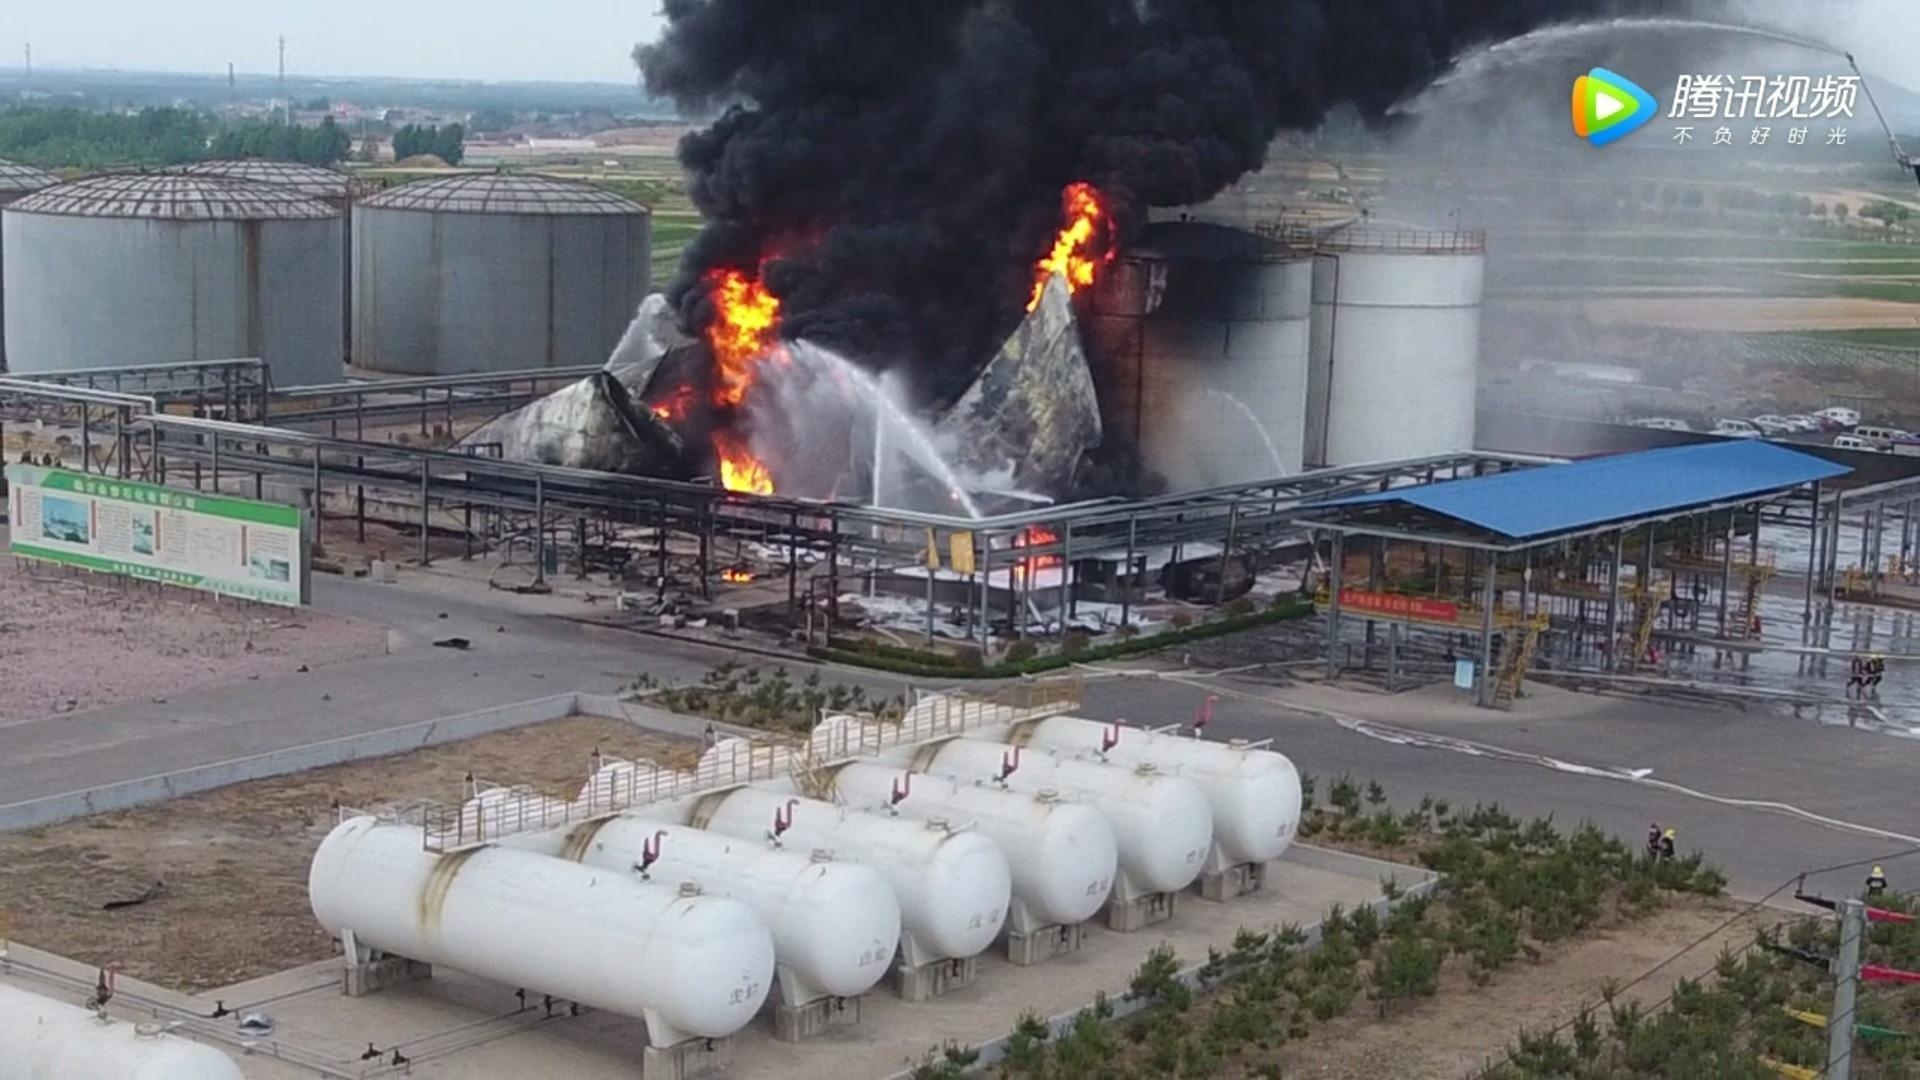fire: (673, 262, 785, 502), (1027, 181, 1112, 309), (1015, 522, 1059, 570)
